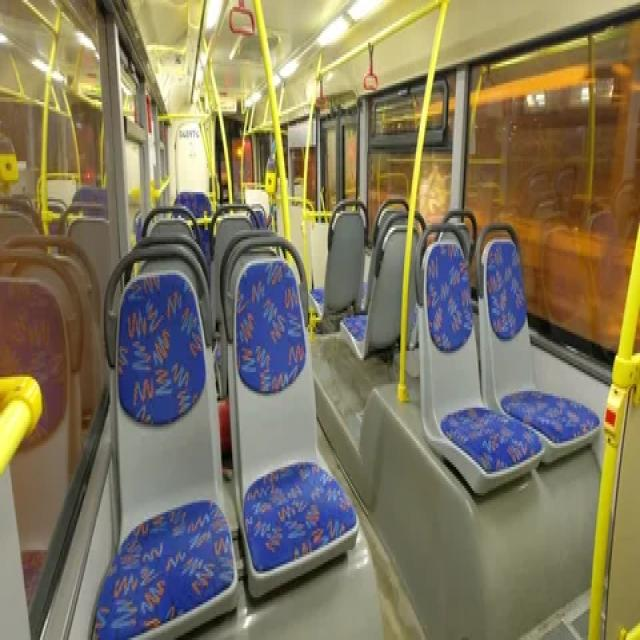empty-seat-frontal: (92, 245, 238, 640), (225, 237, 359, 594), (415, 220, 544, 494), (479, 214, 602, 464)
